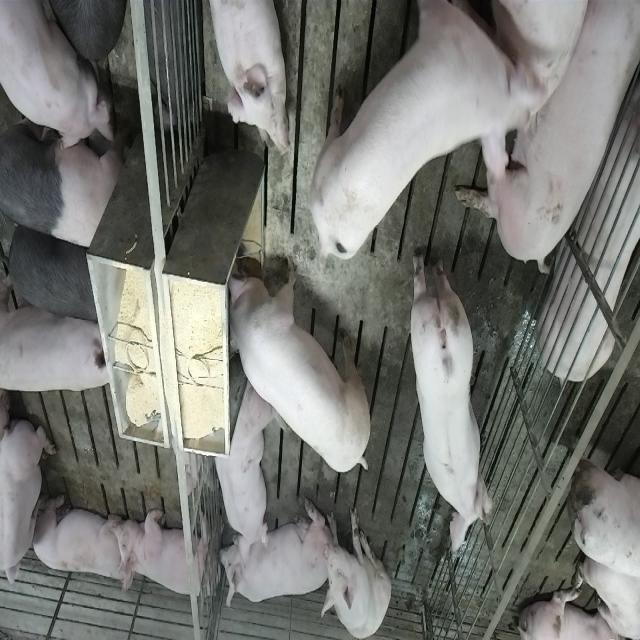Feeding: (219, 250, 367, 474)
Lateral_lying: (452, 5, 636, 278), (537, 61, 640, 383)
Sitting: (321, 504, 391, 638)
Standing: (303, 8, 531, 270), (408, 242, 492, 554), (1, 85, 123, 255), (2, 0, 118, 154), (3, 217, 114, 329), (3, 284, 115, 394)
Sternal_lying: (207, 0, 290, 154), (219, 505, 327, 613), (210, 376, 274, 556), (2, 403, 56, 598), (115, 505, 214, 603), (30, 492, 128, 588)
